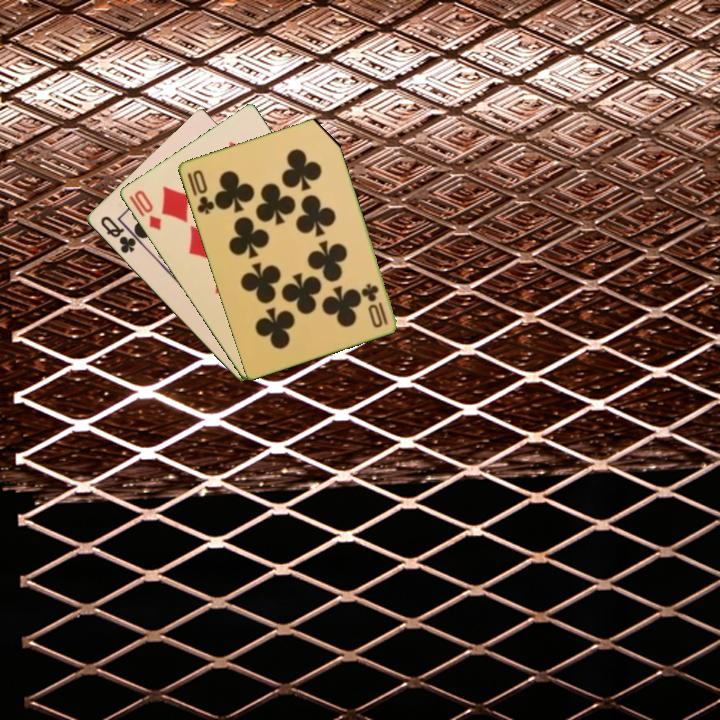10c: (183, 166, 217, 217), (359, 280, 390, 328)
10d: (125, 186, 164, 234)
Qc: (96, 212, 144, 256)
